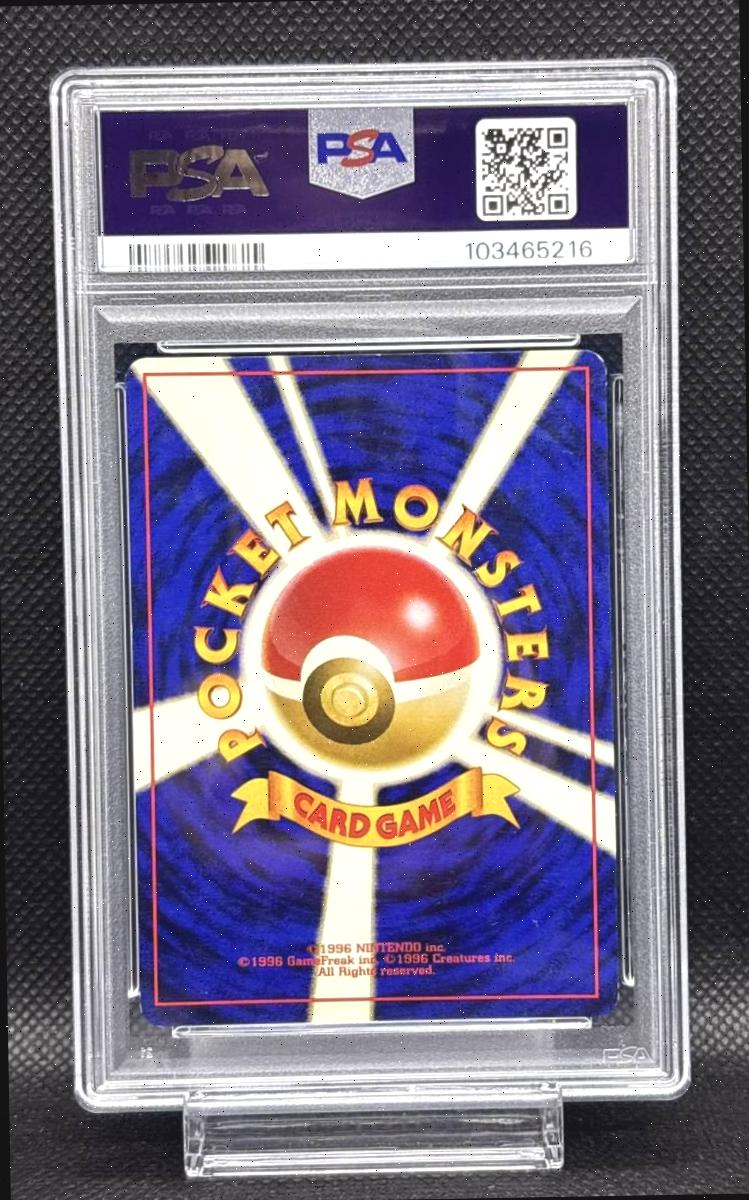card-2UtV: (123, 348, 621, 1030)
